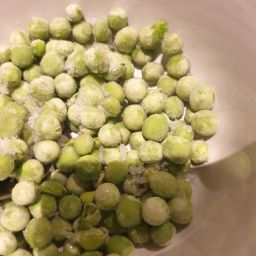Peas: (1, 2, 229, 248), (104, 58, 197, 219), (12, 133, 102, 256), (5, 30, 50, 122)
